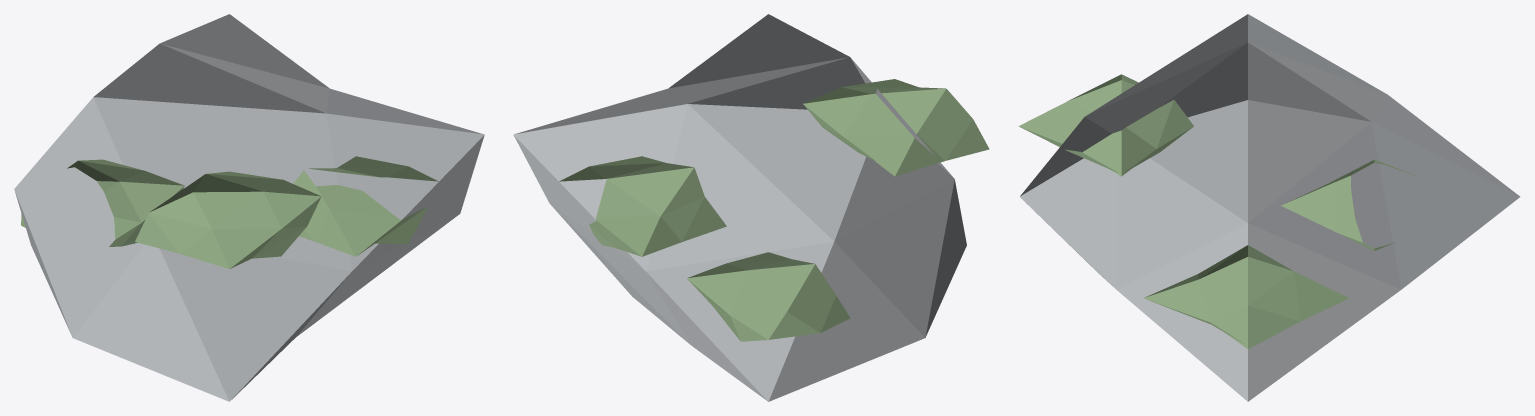
File: moss_rock_v01.glb
3 views of the same model, side by side, from view 1: azimuth 30°, elevation 25°; view 2: azimuth 150°, elevation 25°; view 3: azimuth 270°, elevation 25° (orthographic).
Visible parts, largest first — view 1: lod0; view 2: lod0; view 3: lod0.
Boxes of the visible parts, x1,y1,x2,y2 form: lod0: (14,14,484,401); lod0: (513,14,989,401); lod0: (1018,14,1520,401).
Size of what is drawn, in the model's own units: 0.8074 by 0.6597 by 0.7739.
